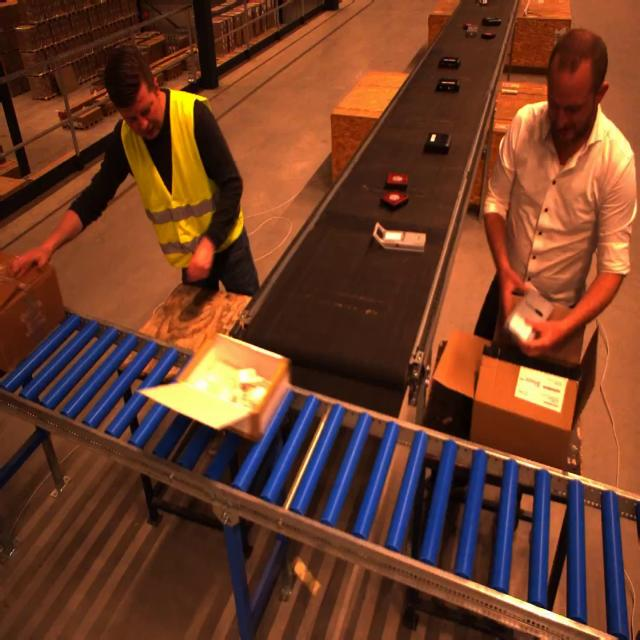box: (137, 332, 285, 442), (1, 248, 66, 368)
product: (503, 287, 555, 345), (370, 222, 425, 254), (423, 132, 451, 153), (380, 190, 409, 209), (385, 173, 408, 189), (435, 79, 460, 93), (438, 56, 461, 69), (482, 16, 502, 26), (464, 24, 478, 37), (480, 31, 496, 39), (477, 0, 488, 6)
